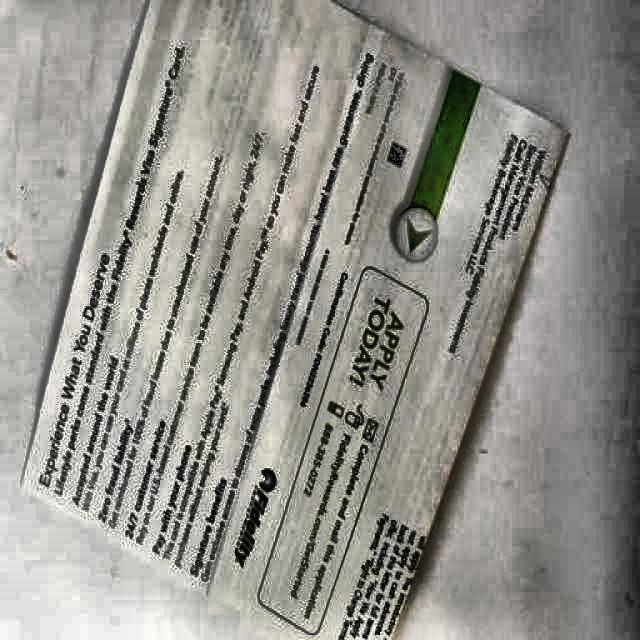Paper: (19, 0, 569, 638)
